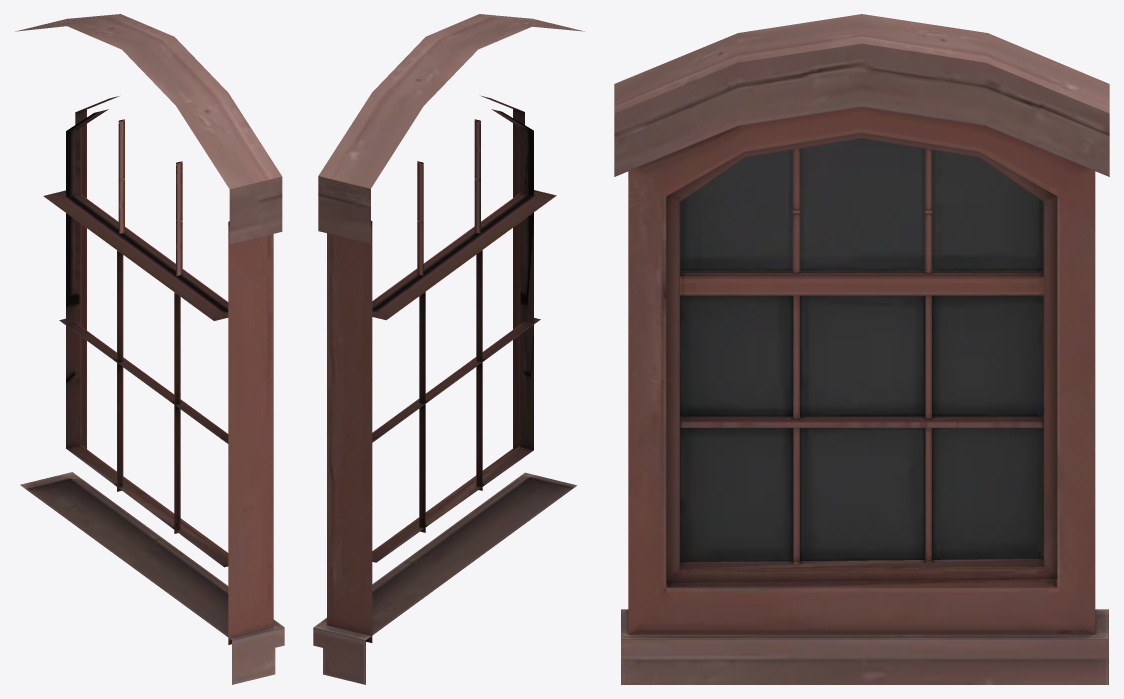
The picture shows the model from 3 angles, left to right: view 1: azimuth 30°, elevation 25°; view 2: azimuth 150°, elevation 25°; view 3: azimuth 270°, elevation 25°; orthographic projection. The views are drawn at different scales.
Parts seen in each view (by area): view 1: body0_model0_lod0_mesh0; view 2: body0_model0_lod0_mesh0; view 3: body0_model0_lod0_mesh0.
Boxes of the visible parts, <box> form: body0_model0_lod0_mesh0: <box>15,14,284,684</box>; body0_model0_lod0_mesh0: <box>313,14,584,684</box>; body0_model0_lod0_mesh0: <box>614,14,1109,684</box>.
Size of the model in its own units: 10.97 by 101 by 70.55.
1 material, 1 textured.
